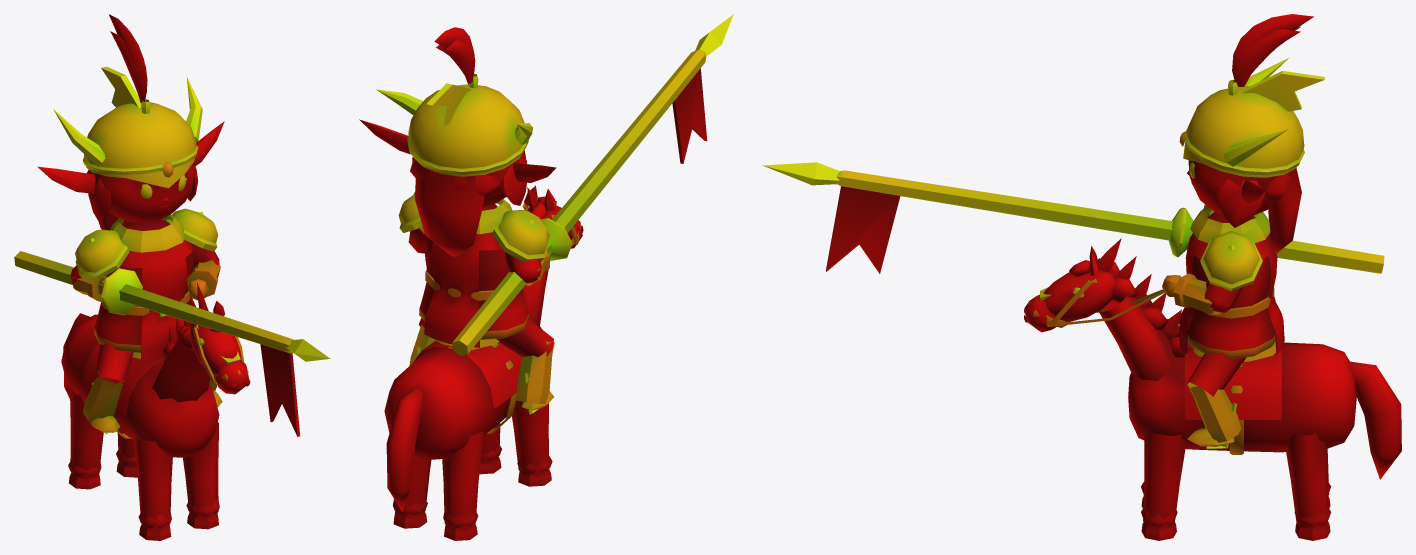
The model's file is DarkElfRider.glb.
3 renders of one model, left to right at view 1: azimuth 30°, elevation 25°; view 2: azimuth 150°, elevation 25°; view 3: azimuth 270°, elevation 25°, orthographic. The views are drawn at different scales.
Parts seen in each view (by area): view 1: DarkElfRider; view 2: DarkElfRider; view 3: DarkElfRider.
Part boxes in pixels (x1,y1,x2,y2): DarkElfRider: (14,14,330,540); DarkElfRider: (359,14,733,540); DarkElfRider: (762,14,1401,540).
Size of the model in its own units: 0.66 by 1.56 by 1.79.
